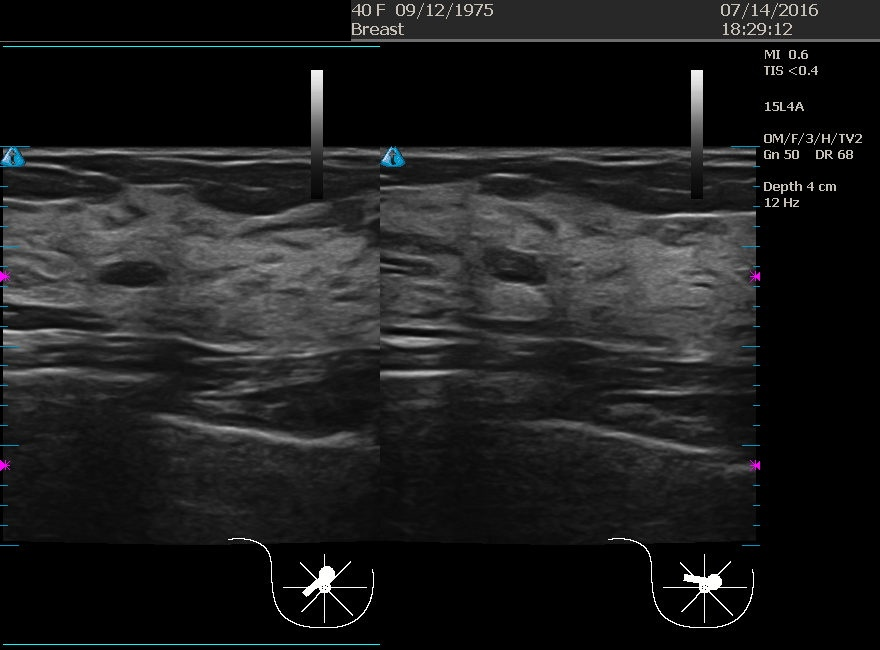BIRADS_2: (30, 191, 230, 391), (468, 176, 668, 376)
